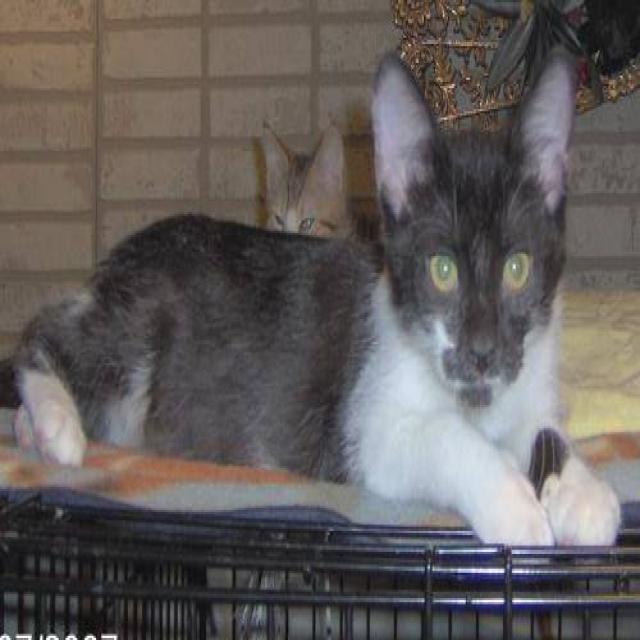cat: (0, 44, 621, 550)
